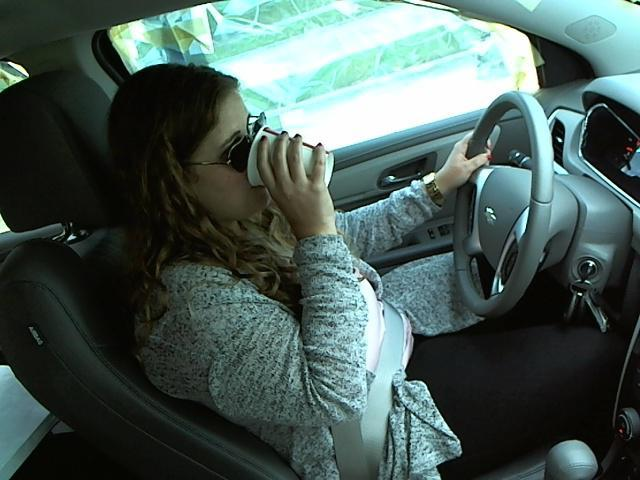Drinking: (115, 64, 336, 223)
